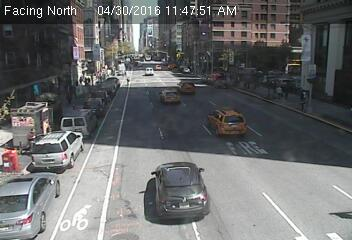neg: (161, 162, 206, 222), (216, 178, 246, 217), (45, 118, 71, 153), (84, 5, 110, 39), (222, 122, 246, 154), (20, 80, 43, 110), (180, 85, 202, 115), (154, 88, 174, 114), (93, 56, 106, 73), (195, 46, 205, 60), (53, 68, 62, 80), (161, 55, 170, 66), (151, 49, 156, 56), (161, 44, 166, 49)
